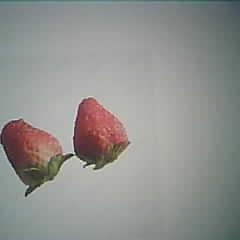straw-ripe: (1, 120, 62, 182), (73, 96, 128, 160)
